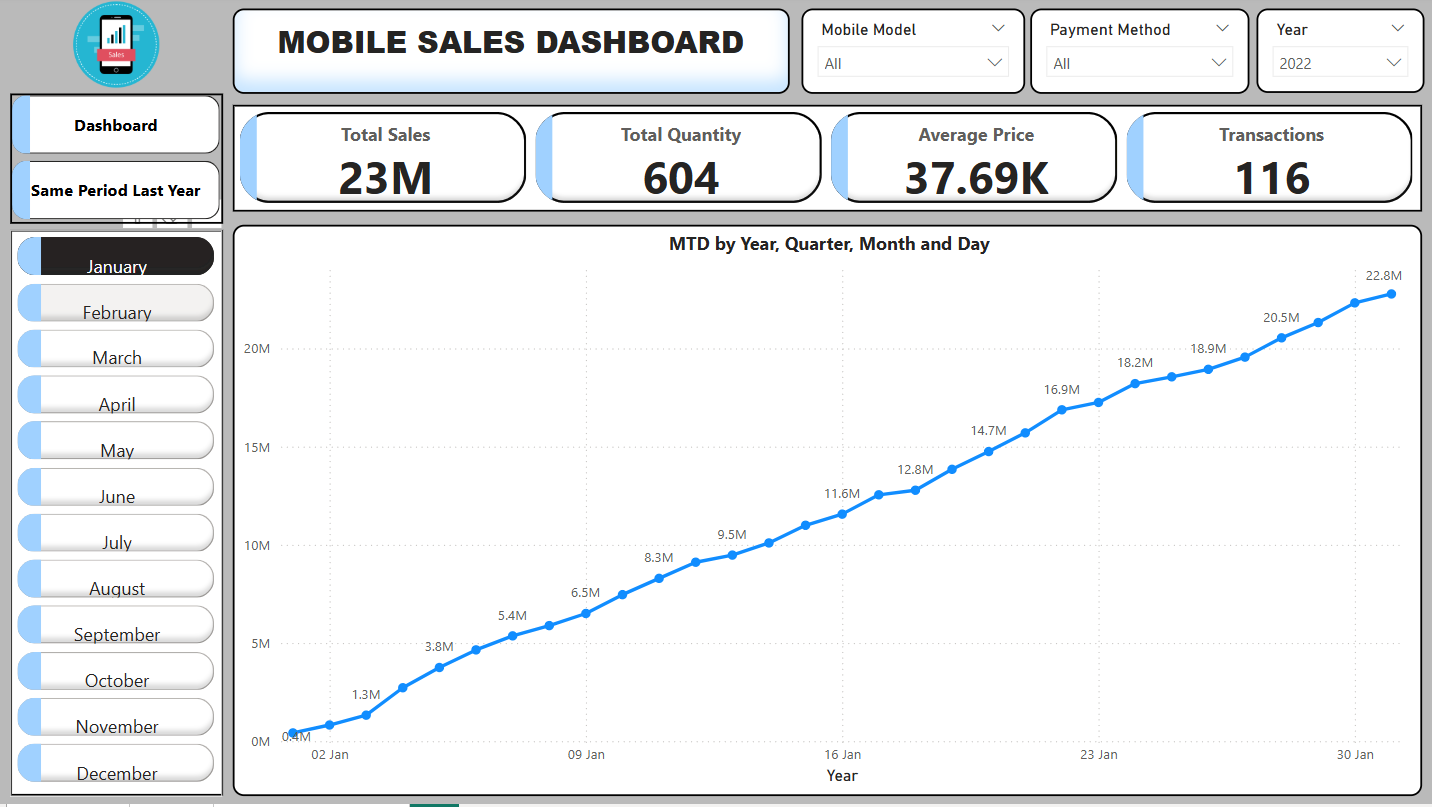

This screenshot's page, from the dashboard's own definition file:
{"tool":"powerbi","page":{"name":" MTD ","canvas":[1280,720],"ordinal":1},"visuals":[{"type":"slicer","fields":{"Values":["Sales_Data.Payment Method"]},"box":[918.5,10.8,195.1,75.9],"z":4000},{"type":"slicer","fields":{"Values":["Custom_Calendar.Date.Variation.Date Hierarchy.Year","Custom_Calendar.Date.Variation.Date Hierarchy.Quarter","Custom_Calendar.Date.Variation.Date Hierarchy.Month","Custom_Calendar.Date.Variation.Date Hierarchy.Day"]},"box":[1119.7,11,149.6,75.5],"z":5000},{"type":"cardVisual","fields":{"Data":["Sales_Data.Total Sales","Sales_Data.Total Quantity","Sales_Data.Average Price","Sales_Data.Transactions"]},"box":[208.7,96.5,1059.3,95.3],"z":9000},{"type":"slicer","fields":{"Values":["Sales_Data.Mobile Model"]},"box":[714.2,10.9,199.1,76],"z":10000},{"type":"textbox","box":[208.7,10.9,495.8,76],"z":11000},{"type":"lineChart","fields":{"Y":["Sales_Data.MTD"],"Category":["Custom_Calendar.Date.Variation.Date Hierarchy.Year","Custom_Calendar.Date.Variation.Date Hierarchy.Quarter","Custom_Calendar.Date.Variation.Date Hierarchy.Month","Custom_Calendar.Date.Variation.Date Hierarchy.Day"]},"box":[208.7,203.9,1059.3,509.1],"z":11001},{"type":"advancedSlicerVisual","fields":{"Values":["Custom_Calendar.Date.Variation.Date Hierarchy.Month"]},"box":[9.7,208.7,189.4,504.3],"z":11002},{"type":"pageNavigator","box":[9.7,86.9,189.4,115.8],"z":11003},{"type":"image","box":[9.7,0,189.4,86.9],"z":11004}]}

Visuals, with their boxes in screenshot pixels (x1, y1, x2, y2), scaled from the page's 1280x720 canvas onto the 1432x807 screenshot:
slicer - Sales_Data.Payment Method: [left=1028, top=12, right=1246, bottom=97]
slicer - Custom_Calendar.Date.Variation.Date Hierarchy.Year x Custom_Calendar.Date.Variation.Date Hierarchy.Quarter: [left=1253, top=12, right=1420, bottom=97]
cardVisual - Sales_Data.Total Sales x Sales_Data.Total Quantity: [left=233, top=108, right=1419, bottom=215]
slicer - Sales_Data.Mobile Model: [left=799, top=12, right=1022, bottom=97]
textbox: [left=233, top=12, right=788, bottom=97]
lineChart - Sales_Data.MTD x Custom_Calendar.Date.Variation.Date Hierarchy.Year: [left=233, top=229, right=1419, bottom=799]
advancedSlicerVisual - Custom_Calendar.Date.Variation.Date Hierarchy.Month: [left=11, top=234, right=223, bottom=799]
pageNavigator: [left=11, top=97, right=223, bottom=227]
image: [left=11, top=0, right=223, bottom=97]
